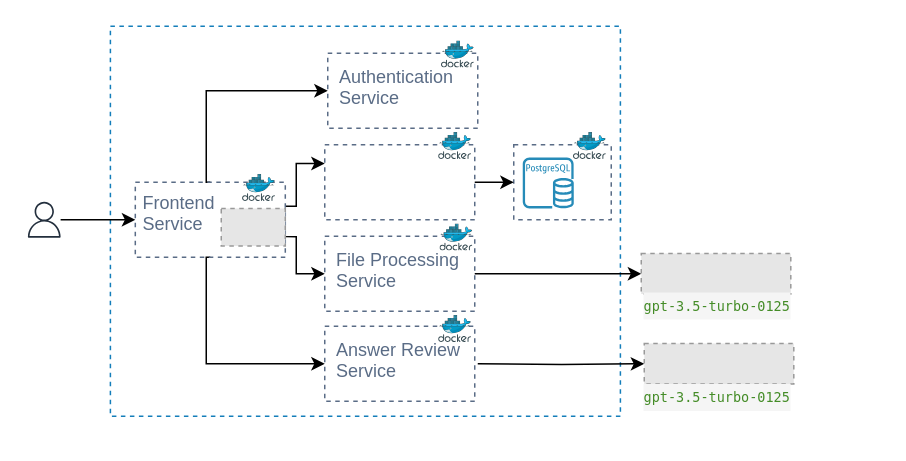
The diagram is 906 pixels wide and 461 high, and some of its shapes have lost their labels. Grey dashed boxes stand in for pictures. Here are the shapes that lost their labels. From the top down, the box of each, then its label:
(323, 143, 475, 220): Course Mgmt. Service
(109, 25, 620, 416): AI Tutoring Webapp
